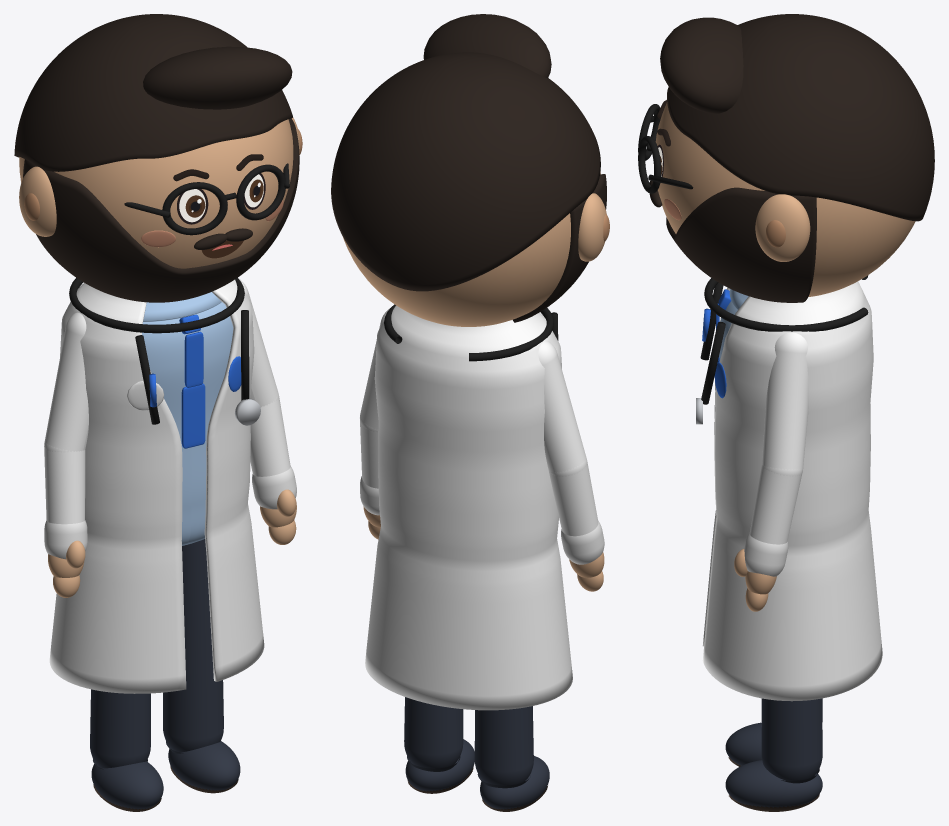
Rendered from dokter.glb.
3 renders of one model, left to right at view 1: azimuth 30°, elevation 25°; view 2: azimuth 150°, elevation 25°; view 3: azimuth 270°, elevation 25°, orthographic. The views are drawn at different scales.
Visible parts, largest first — view 1: dokter_labjas, dokter_haar, dokter_hoofd, dokter_baard, dokter_been_L, dokter_romp, dokter_haar_kuif, dokter_been_R, dokter_bovenarm_R, dokter_onderarm_R, dokter_schoen_R, dokter_schoen_L (+16 smaller); view 2: dokter_labjas, dokter_haar, dokter_hoofd, dokter_haar_kuif, dokter_been_R, dokter_bovenarm_R, dokter_been_L, dokter_onderarm_R, dokter_baard, dokter_schoen_R, dokter_schoen_L, dokter_oor_R (+5 smaller); view 3: dokter_labjas, dokter_haar, dokter_hoofd, dokter_baard, dokter_haar_kuif, dokter_bovenarm_L, dokter_been_L, dokter_schoen_L, dokter_onderarm_L, dokter_oor_L, dokter_stethoscoop_nek, dokter_manchet_L (+5 smaller).
Boxes of the visible parts, x1,y1,x2,y2 form: dokter_labjas: [49, 279, 264, 693]; dokter_haar: [14, 14, 292, 171]; dokter_hoofd: [19, 119, 293, 268]; dokter_baard: [23, 118, 299, 302]; dokter_been_L: [163, 539, 223, 752]; dokter_romp: [142, 302, 233, 545]; dokter_haar_kuif: [143, 46, 292, 109]; dokter_been_R: [90, 689, 150, 768]; dokter_bovenarm_R: [44, 312, 88, 451]; dokter_onderarm_R: [44, 444, 85, 524]; dokter_schoen_R: [91, 761, 163, 809]; dokter_schoen_L: [168, 741, 240, 790]; dokter_labjas: [365, 305, 572, 710]; dokter_haar: [331, 52, 600, 291]; dokter_hoofd: [343, 171, 600, 326]; dokter_haar_kuif: [423, 14, 551, 78]; dokter_been_R: [474, 706, 533, 785]; dokter_bovenarm_R: [538, 341, 586, 476]; dokter_been_L: [404, 697, 463, 768]; dokter_onderarm_R: [549, 462, 598, 536]; dokter_baard: [513, 174, 606, 322]; dokter_schoen_R: [480, 756, 549, 809]; dokter_schoen_L: [405, 739, 474, 791]; dokter_oor_R: [578, 193, 606, 261]; dokter_labjas: [702, 281, 882, 701]; dokter_haar: [667, 14, 934, 221]; dokter_hoofd: [655, 102, 915, 296]; dokter_baard: [666, 187, 816, 302]; dokter_haar_kuif: [660, 17, 743, 113]; dokter_bovenarm_L: [762, 332, 808, 475]; dokter_been_L: [761, 698, 822, 780]; dokter_schoen_L: [725, 760, 822, 807]; dokter_onderarm_L: [749, 465, 802, 544]; dokter_oor_L: [755, 194, 810, 261]; dokter_stethoscoop_nek: [704, 275, 868, 331]; dokter_manchet_L: [744, 533, 788, 576].
Size of the model in its own units: 0.6749 by 1.8 by 0.6327.
